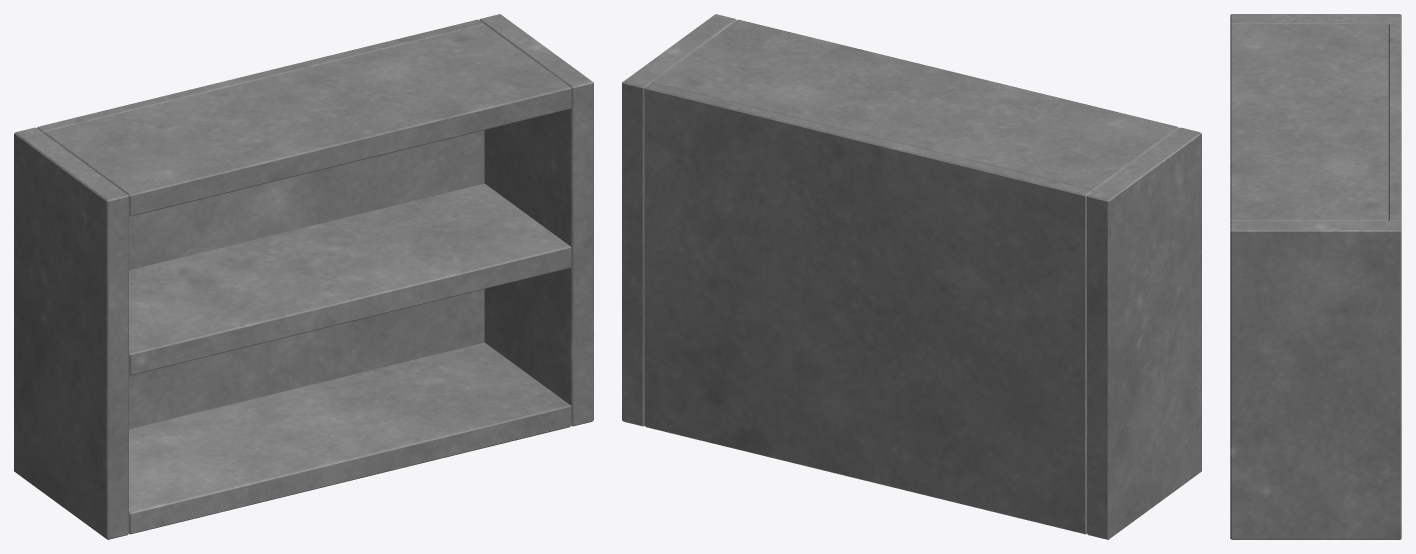
File: LC_3145_iron_shelf_LOD3.fbx
The picture shows the model from 3 angles, left to right: view 1: azimuth 30°, elevation 25°; view 2: azimuth 150°, elevation 25°; view 3: azimuth 270°, elevation 25°; orthographic projection. The views are drawn at different scales.
Visible parts, largest first — view 1: LC_3145_is_LOD3; view 2: LC_3145_is_LOD3; view 3: LC_3145_is_LOD3.
Boxes of the visible parts, x1=… form: LC_3145_is_LOD3: x1=14, y1=14, x2=593, y2=539; LC_3145_is_LOD3: x1=622, y1=14, x2=1201, y2=539; LC_3145_is_LOD3: x1=1230, y1=14, x2=1401, y2=539.
Bounding box in the file's own units: 90 × 60 × 30.
1 material, 1 textured.
